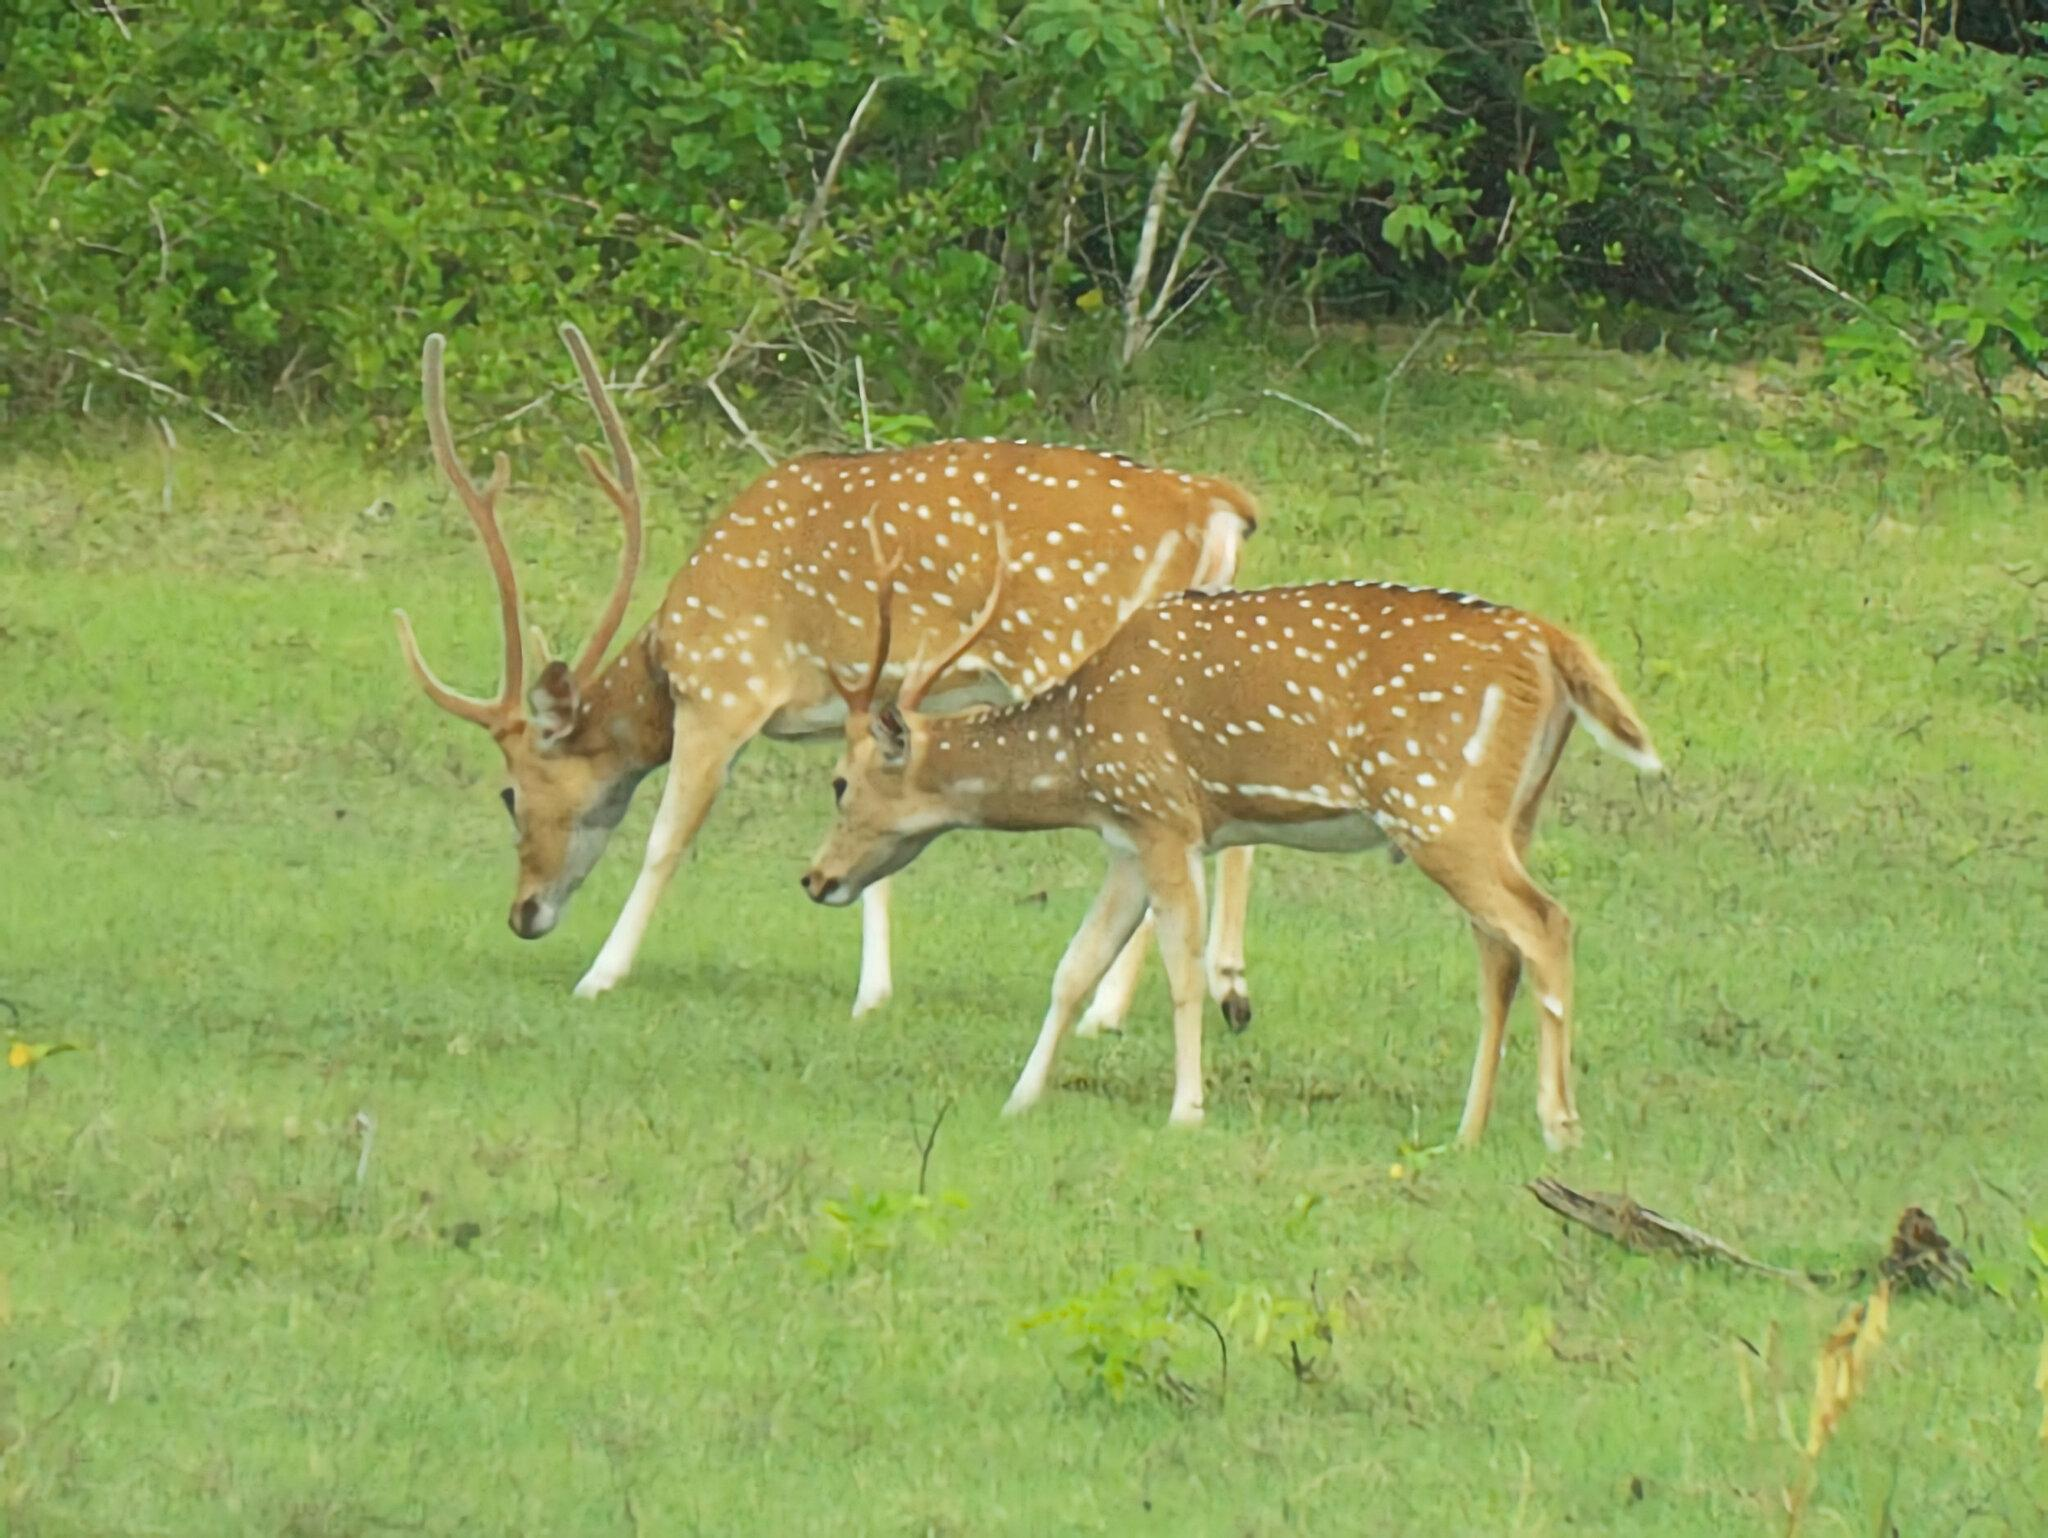Deer: (801, 582, 1660, 1150), (396, 325, 829, 997)
